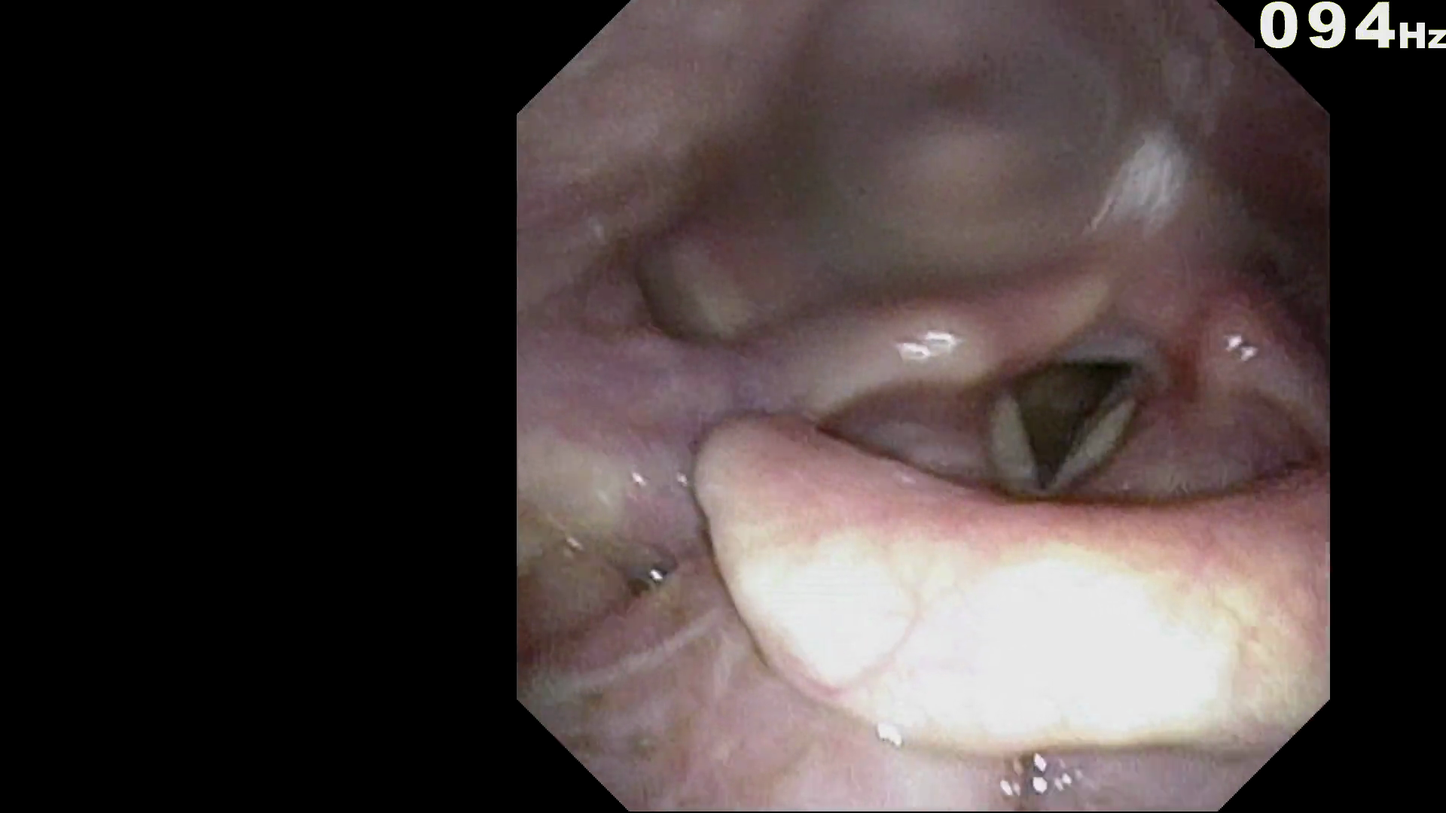epiglottis: (717, 487, 1314, 711)
trachea: (984, 339, 1147, 494)
